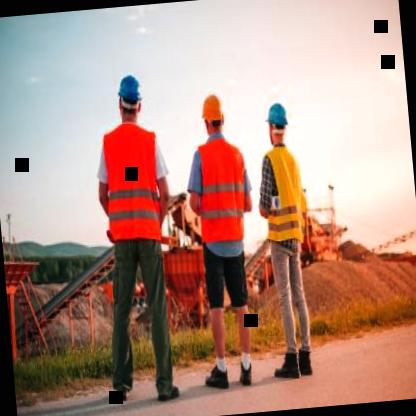helmet: (113, 68, 148, 126), (196, 88, 230, 144), (263, 94, 292, 152)
